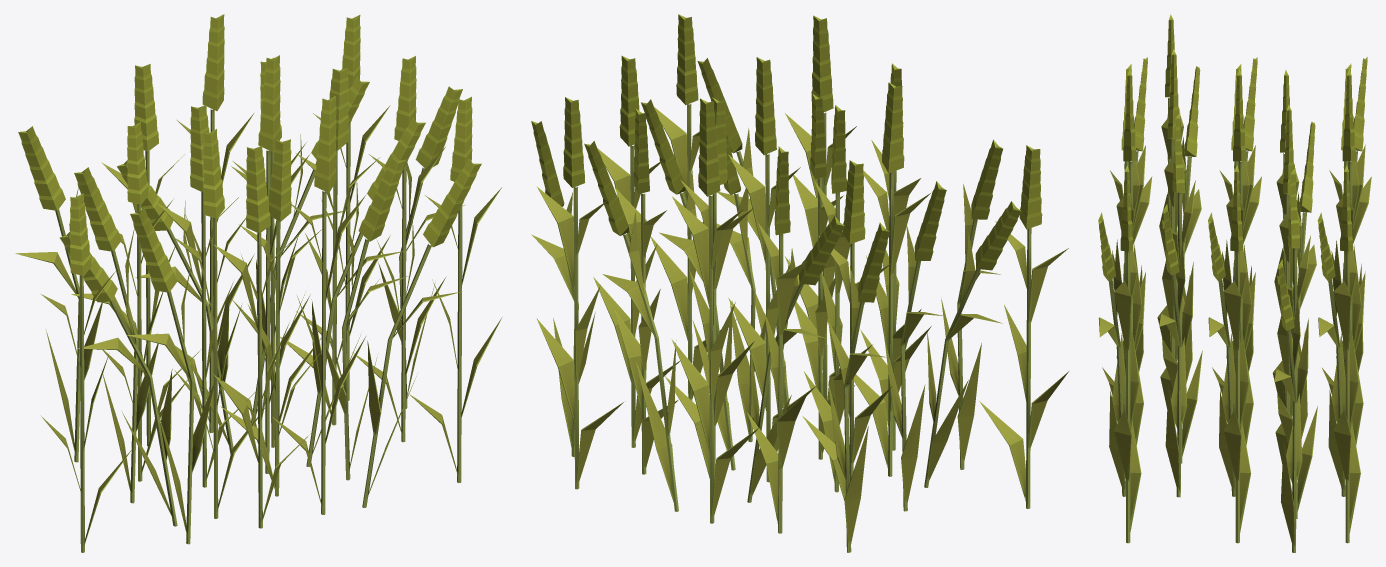
The model's file is whole_plant.glb.
3 views of the same model, side by side, from view 1: azimuth 30°, elevation 25°; view 2: azimuth 150°, elevation 25°; view 3: azimuth 270°, elevation 25° (orthographic). The views are drawn at different scales.
Visible parts, largest first — view 1: FieldOfWheat_mesh; view 2: FieldOfWheat_mesh; view 3: FieldOfWheat_mesh.
Part boxes in pixels (x1=…): FieldOfWheat_mesh: x1=15, y1=14, x2=501, y2=552; FieldOfWheat_mesh: x1=531, y1=14, x2=1068, y2=552; FieldOfWheat_mesh: x1=1098, y1=14, x2=1371, y2=552.
Bounding box in the file's own units: 1.8 × 1.49 × 0.9061.
Materials: 1 (1 with a texture image).
